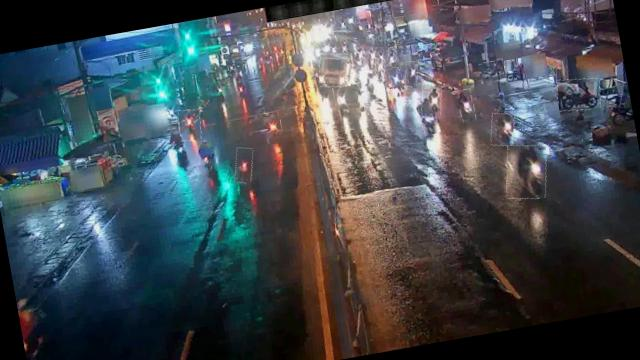Bike: (500, 140, 552, 202), (554, 74, 604, 113), (487, 110, 517, 147), (415, 94, 440, 137), (231, 146, 257, 184), (177, 107, 204, 142), (418, 86, 444, 119), (198, 136, 218, 174), (262, 112, 284, 144), (479, 59, 507, 84), (457, 88, 476, 122), (167, 127, 184, 158), (403, 60, 421, 87), (388, 65, 405, 93), (362, 70, 380, 96), (373, 57, 386, 79), (386, 46, 398, 63)
Car: (332, 82, 366, 116)
Truck: (315, 50, 355, 90)
